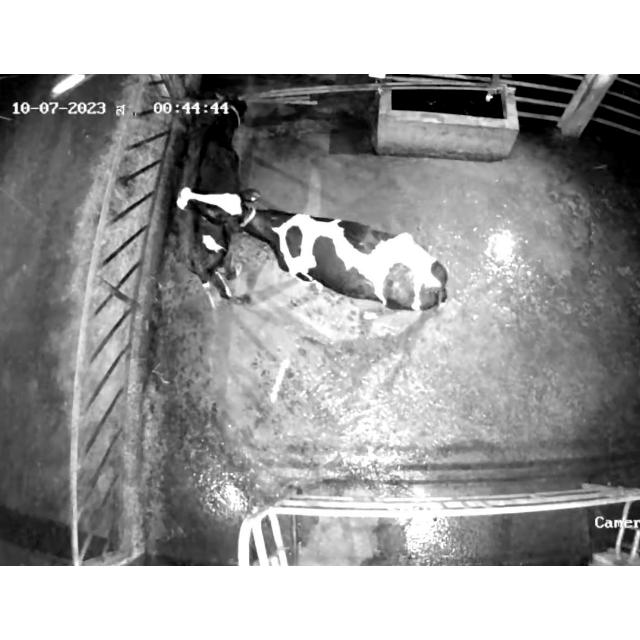propping: (164, 170, 288, 242)
